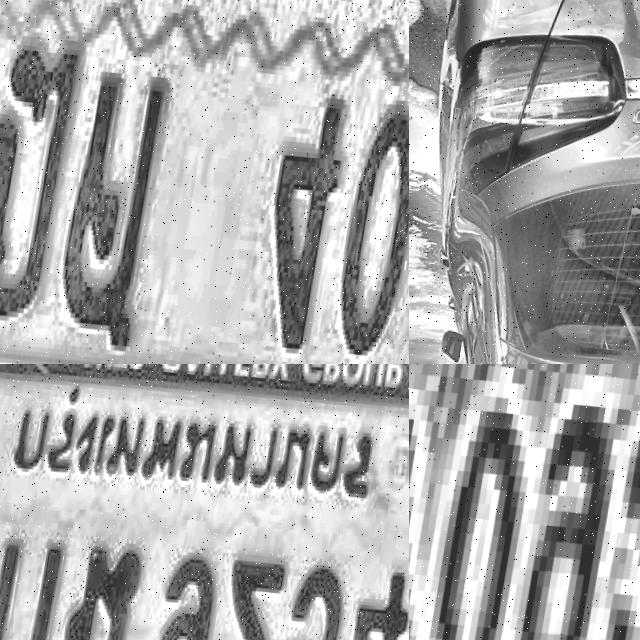license-plate: (0, 0, 409, 364), (0, 364, 409, 640), (409, 364, 640, 640)
